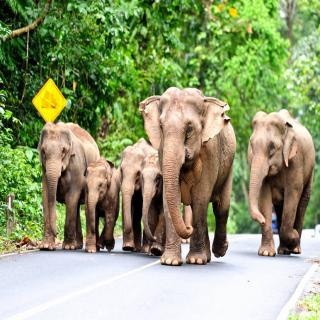Elephant: (138, 84, 239, 275), (246, 108, 317, 260), (36, 116, 104, 252), (114, 136, 163, 257), (82, 150, 122, 258), (138, 148, 170, 261)
